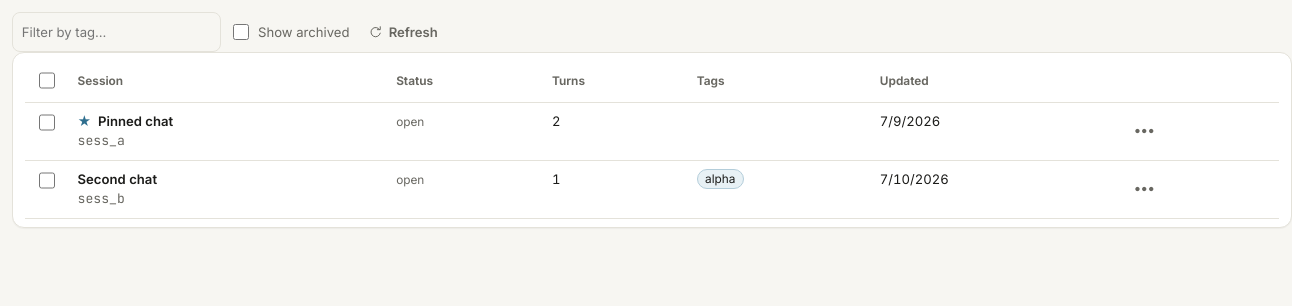
Test: SessionsView organisation › selects every visible session from the select-all checkbox
expect the text "Pinned chat" is shown: met, box top-left (94, 113), bottom-right (173, 129)
Click the checkbox named "Select all sessions" at (47, 80), box top-left (39, 72), bottom-right (55, 89)
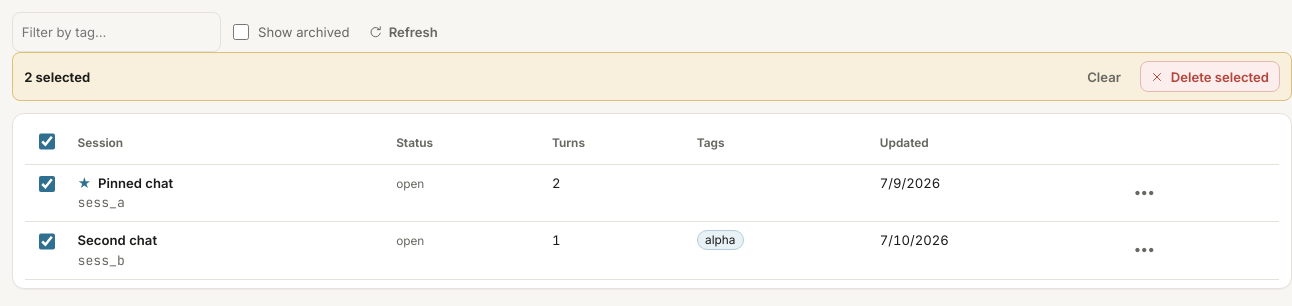
expect the text "2 selected" is shown: met, box top-left (24, 67), bottom-right (90, 87)
